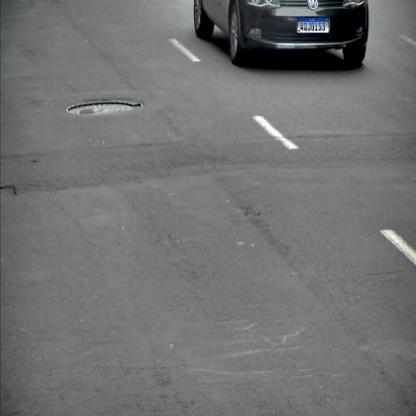PlacaM: (297, 18, 329, 34)
